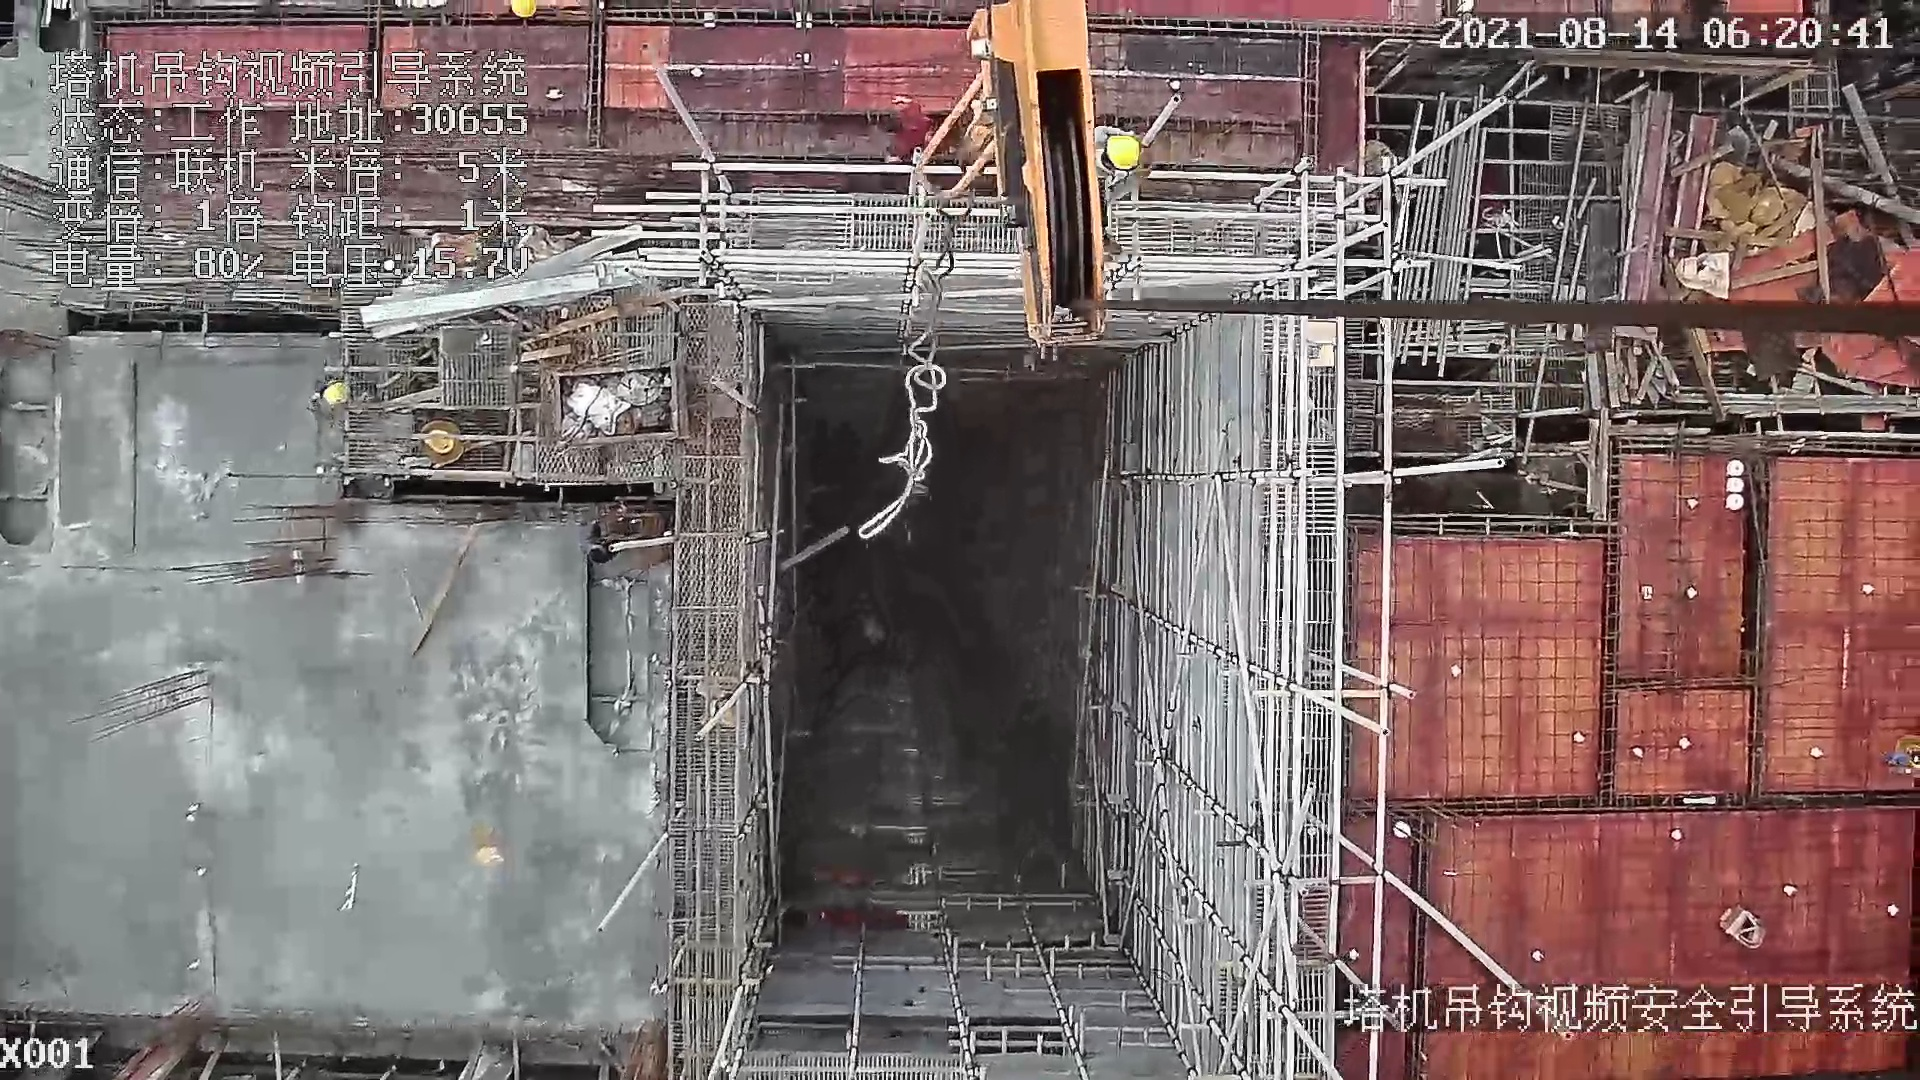helmet: (1103, 132, 1145, 174), (506, 1, 536, 21)
hook: (897, 4, 1112, 345)
person: (1096, 112, 1163, 205)
